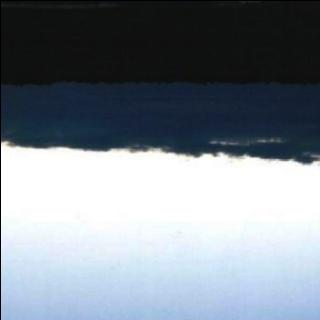Stratocumulus: (0, 73, 320, 304)
